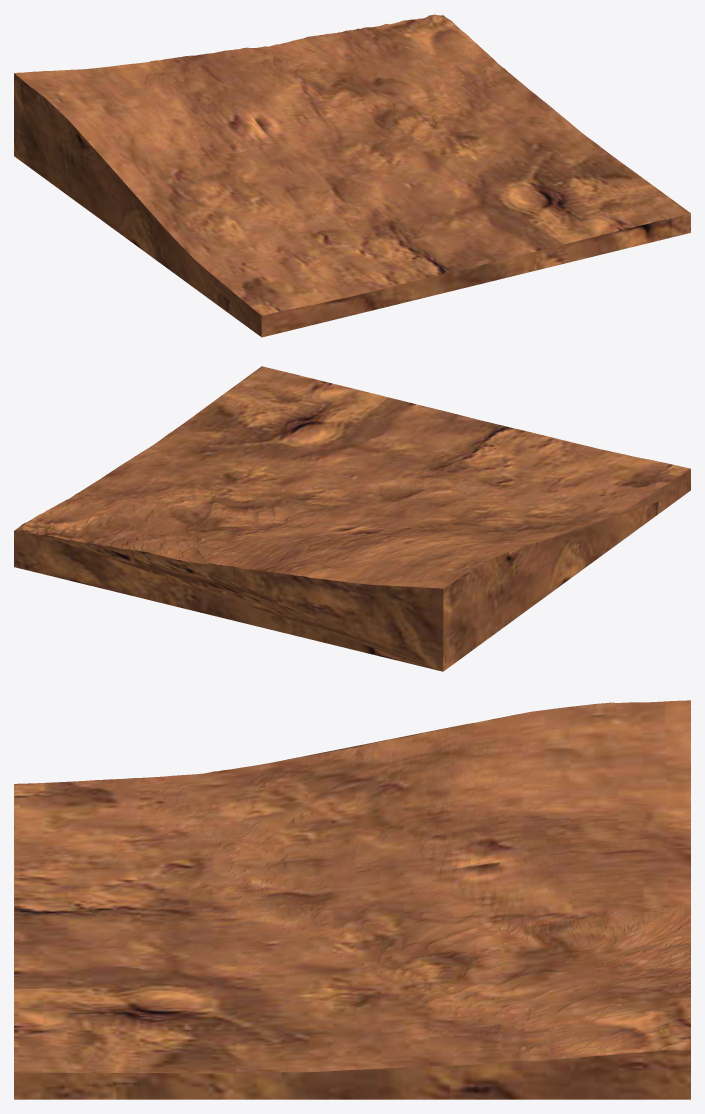
Rendered from curiosity_path25k.dae.
The picture shows the model from 3 angles, top to bottom: view 1: azimuth 30°, elevation 25°; view 2: azimuth 150°, elevation 25°; view 3: azimuth 270°, elevation 25°; orthographic projection. The views are drawn at different scales.
Visible parts, largest first — view 1: Curiosity_Path25K; view 2: Curiosity_Path25K; view 3: Curiosity_Path25K.
Part boxes in pixels (x1,y1,x2,y2): Curiosity_Path25K: [14, 14, 690, 337]; Curiosity_Path25K: [14, 366, 690, 671]; Curiosity_Path25K: [14, 700, 690, 1099].
Bounding box in the file's own units: 304 × 304 × 56.2.
Materials: 1 (1 with a texture image).
